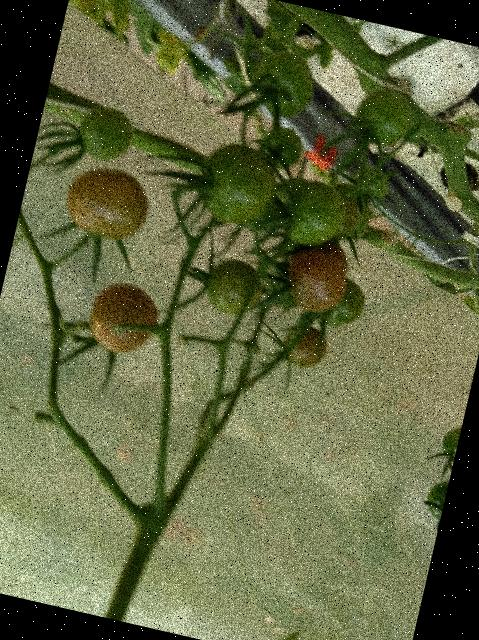l_green: (194, 138, 281, 231), (277, 175, 352, 253), (249, 47, 319, 121), (349, 83, 416, 149), (200, 253, 265, 319), (72, 101, 137, 165), (308, 270, 369, 331), (256, 123, 304, 172), (422, 476, 448, 521), (438, 422, 461, 460)
l_half_ripened: (57, 159, 153, 246), (82, 277, 162, 359), (281, 245, 351, 318), (278, 321, 330, 372)
